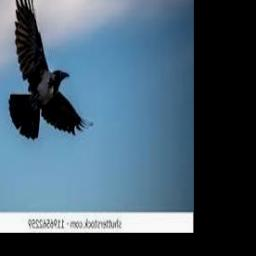Crow: (9, 0, 94, 139)
